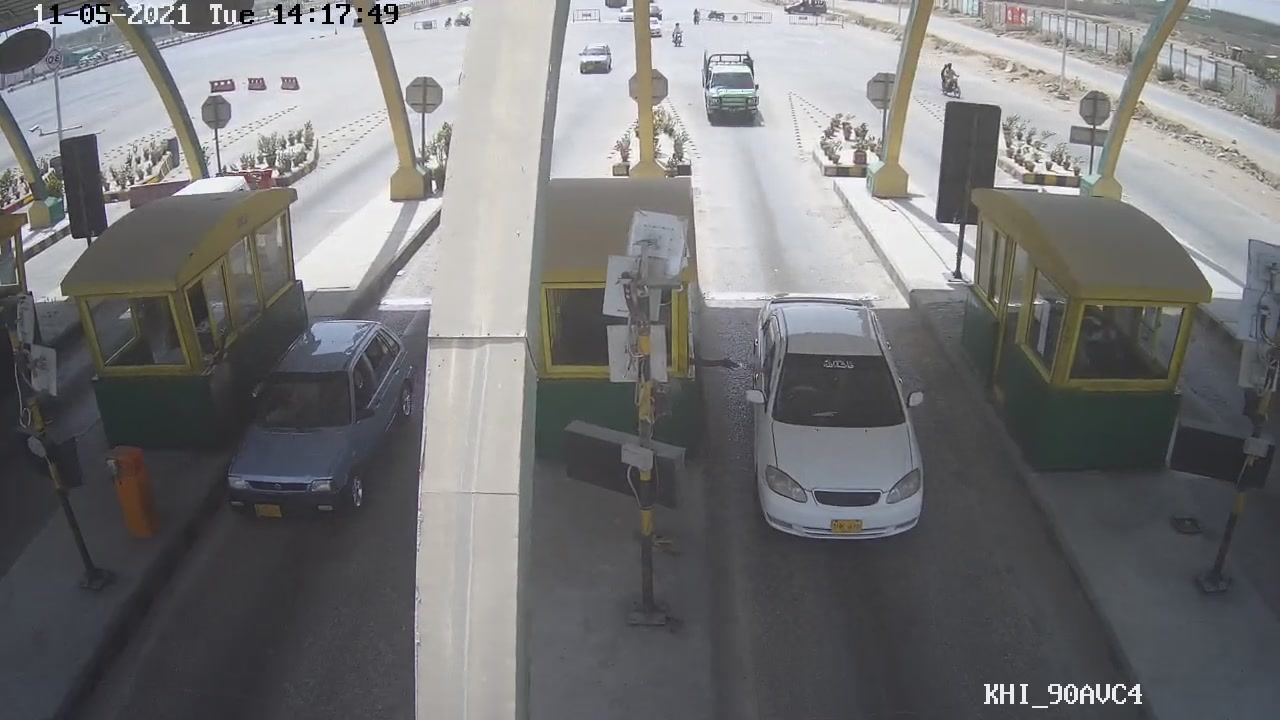F1: (746, 291, 931, 544)
